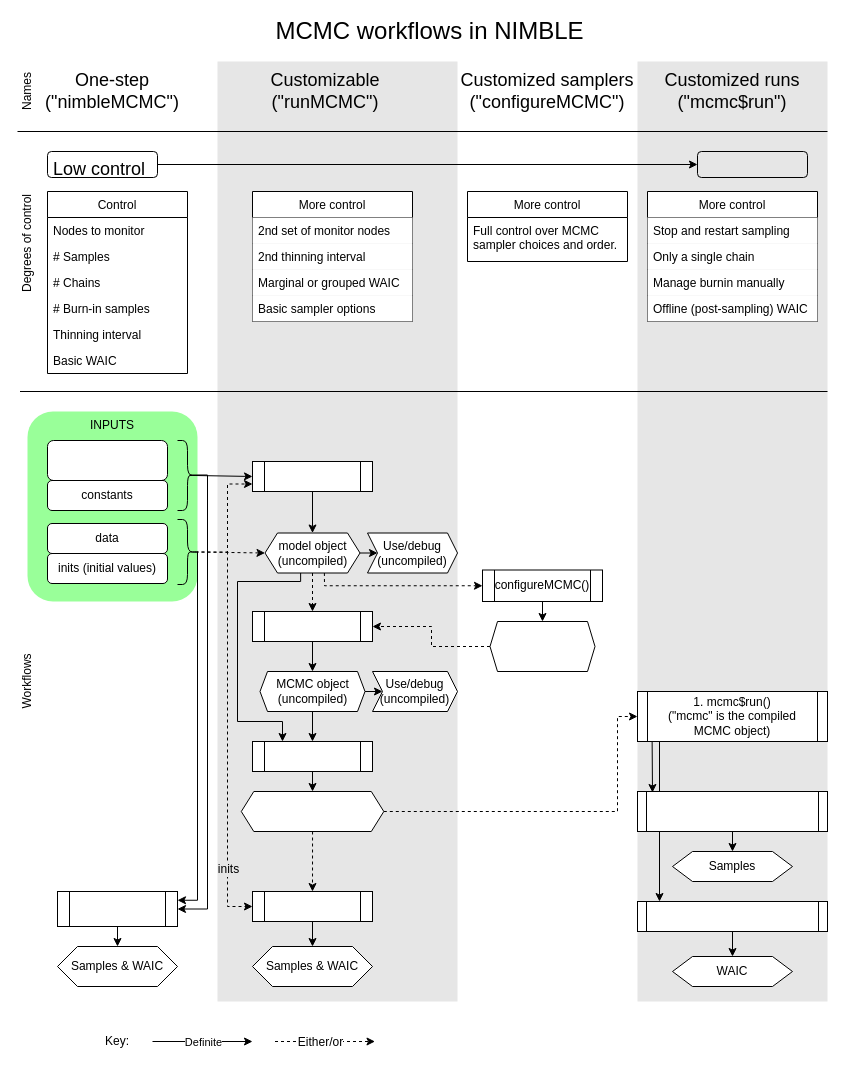
Image size: 846x1069. Some labels were removed from this diagram. The shapes that lost their labels are listed below. From the top down, each one's centre as x and y in pixels, then its label:
pixel 752 164: High control
pixel 107 460: model code (from nimbleCode())
pixel 312 476: nimbleModel()
pixel 312 626: buildMCMC()
pixel 542 646: MCMC configuration (customizable)
pixel 312 756: compileNimble()
pixel 312 811: model & MCMC objects (compiled)
pixel 732 811: 2. as.matrix(mcmc$mvSamples)
pixel 117 908: nimbleMCMC()
pixel 312 906: runMCMC()
pixel 732 916: 3. mcmc$getWAIC()
